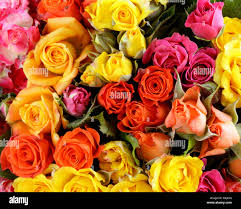lale: (30, 26, 88, 86), (3, 133, 54, 184), (50, 124, 102, 171), (185, 0, 233, 48), (3, 94, 62, 130), (91, 80, 142, 118), (156, 151, 200, 195), (137, 63, 178, 106), (177, 46, 221, 86), (99, 0, 147, 32), (59, 86, 96, 119), (101, 53, 137, 86), (121, 27, 153, 64)
